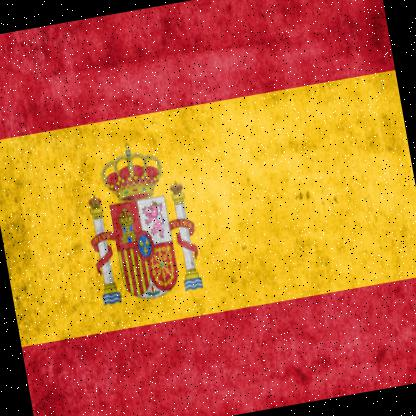es: (1, 1, 416, 416)
